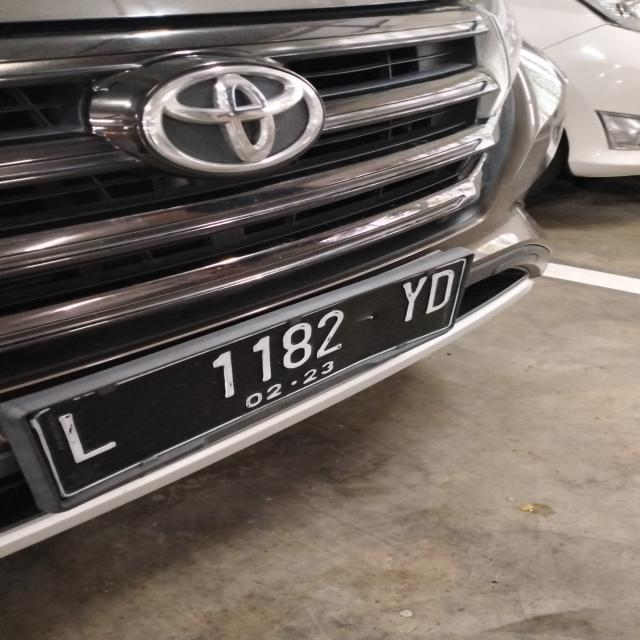1: (185, 347, 248, 408), (245, 330, 287, 386)
2: (309, 312, 352, 362)
8: (278, 325, 316, 372)
D: (424, 268, 460, 316)
L: (18, 402, 134, 472)
Y: (388, 280, 429, 327)
